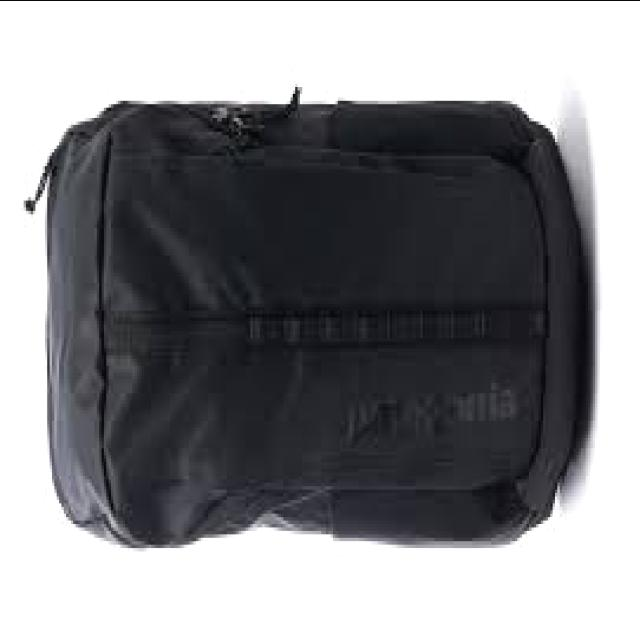backpack: (23, 91, 585, 555)
